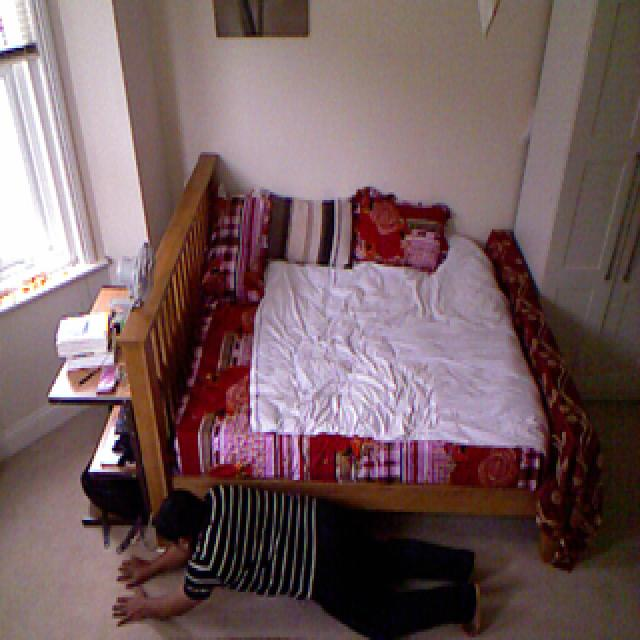lying: (108, 477, 488, 640)
